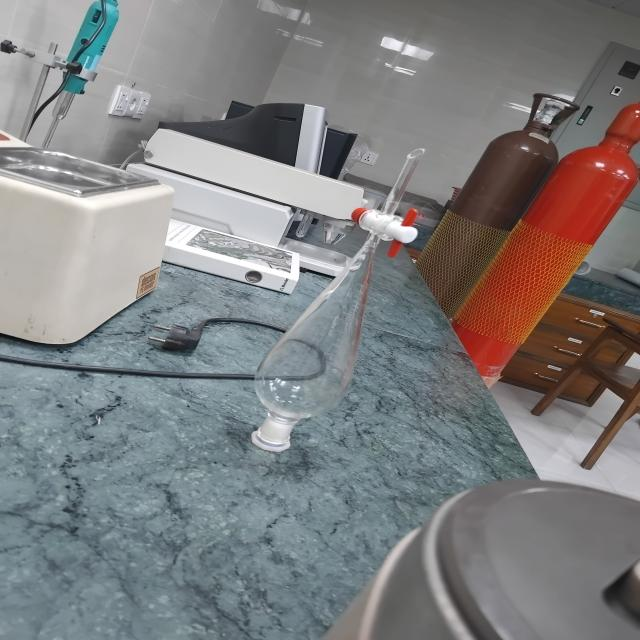Separating_Funnel: (236, 125, 442, 471)
